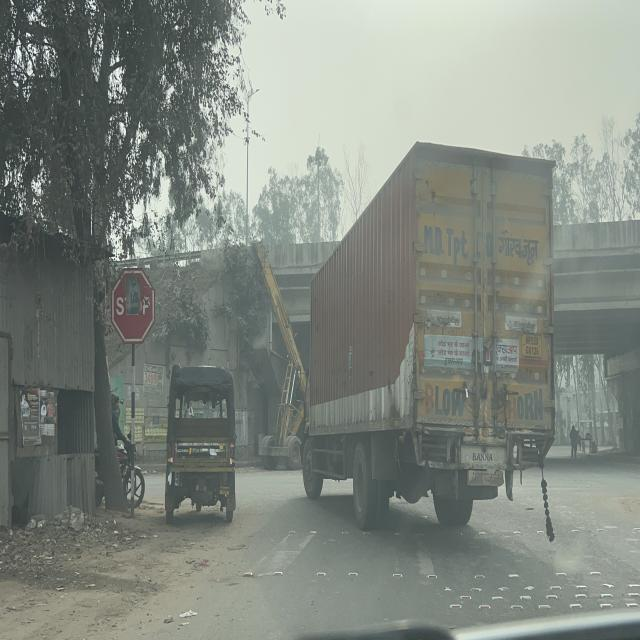STOP: (111, 266, 156, 347)
